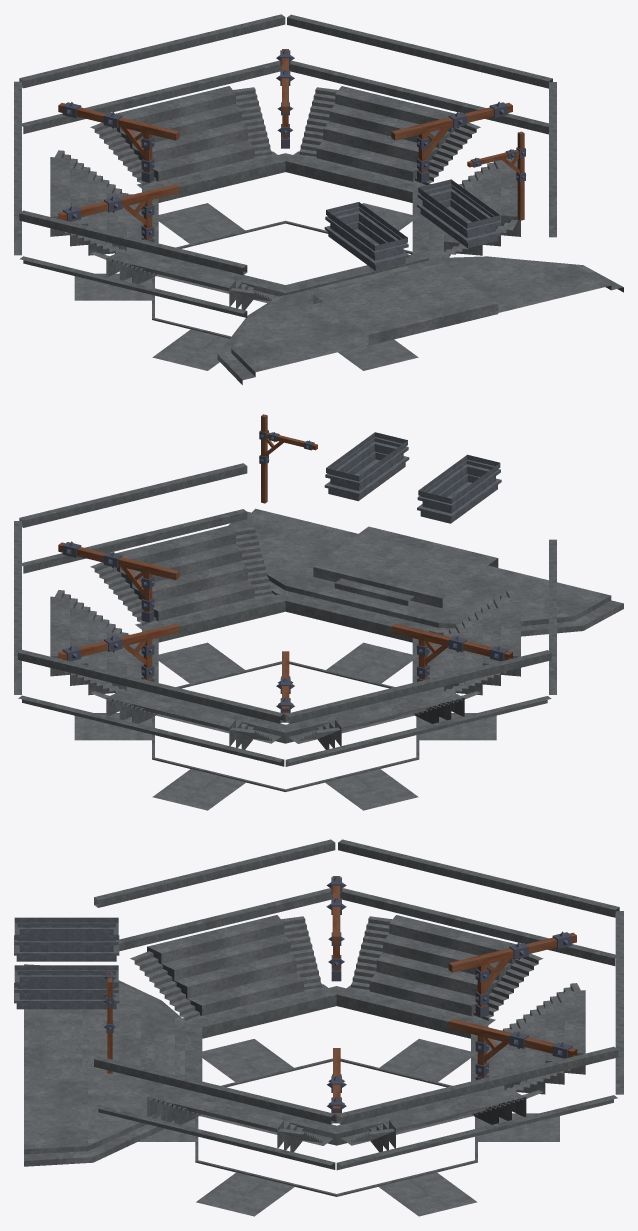
Rendered from jingjz_building_01b.FBX.
3 views of the same model, one above another, from view 1: azimuth 30°, elevation 25°; view 2: azimuth 150°, elevation 25°; view 3: azimuth 270°, elevation 25° (orthographic). The views are drawn at different scales.
Parts seen in each view (by area): view 1: jingjz_building_01b; view 2: jingjz_building_01b; view 3: jingjz_building_01b.
Boxes of the visible parts, x1,y1,x2,y2 form: jingjz_building_01b: (14, 14, 623, 384); jingjz_building_01b: (14, 414, 623, 810); jingjz_building_01b: (14, 839, 623, 1216).
Bounding box in the file's own units: 344 × 123 × 319.
